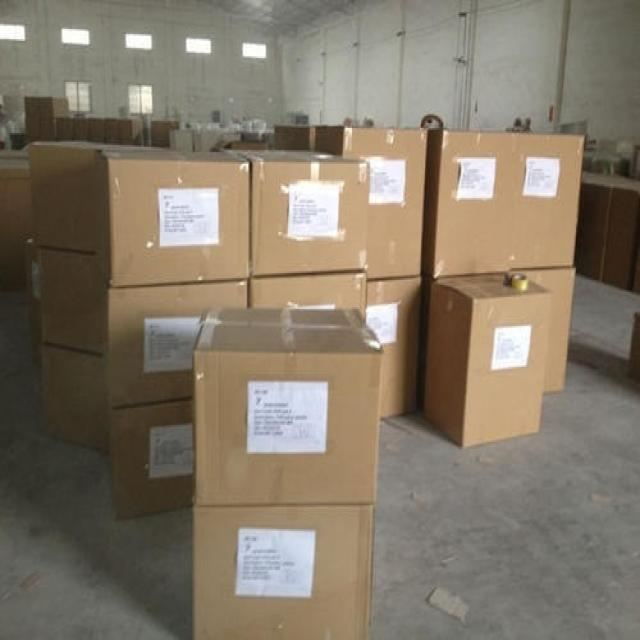box: (195, 307, 384, 503), (193, 503, 375, 640), (424, 130, 585, 278), (421, 270, 552, 449), (95, 148, 251, 285), (105, 278, 248, 411), (223, 148, 369, 276), (315, 126, 428, 278), (29, 140, 157, 258), (106, 399, 195, 521), (366, 276, 422, 420), (42, 343, 108, 452), (520, 266, 576, 394), (38, 247, 104, 355), (250, 270, 367, 323), (24, 239, 41, 335), (275, 125, 316, 150), (151, 121, 178, 143), (41, 97, 70, 116), (120, 118, 143, 138), (102, 118, 119, 142), (56, 118, 74, 140), (72, 118, 90, 137), (26, 114, 40, 138), (88, 119, 104, 140), (40, 118, 56, 138), (26, 96, 40, 114)
